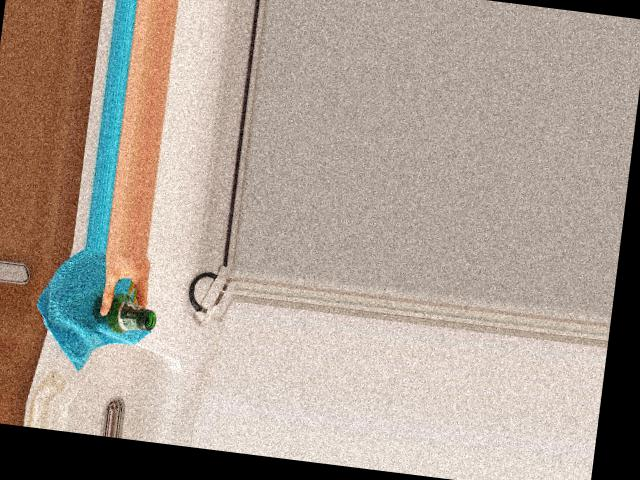beer: (89, 292, 157, 336)
